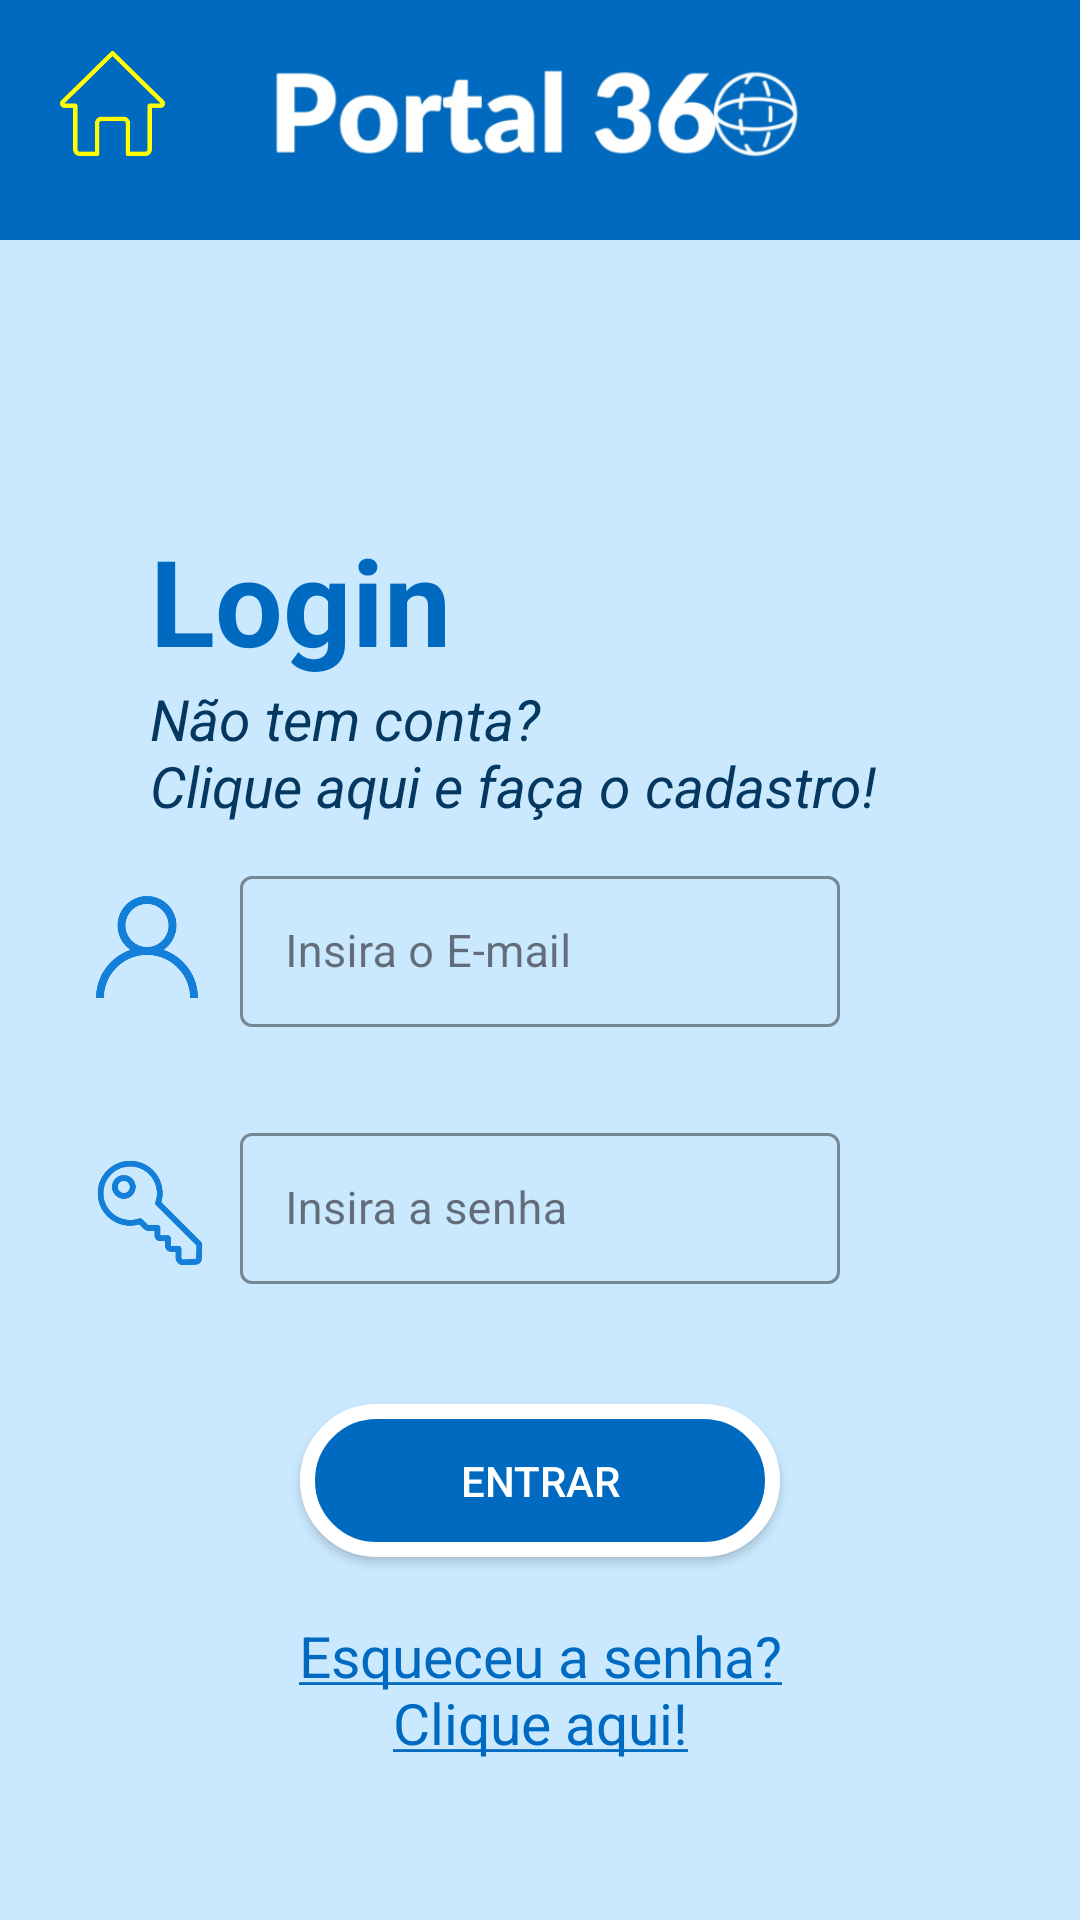

Point at icon controls on the screen. Image size 1080 × 1920, points as (x=x, y=y).
chave: (x=150, y=1213)
perfilazul: (x=147, y=947)
Volte a tela inicial: (x=112, y=103)
